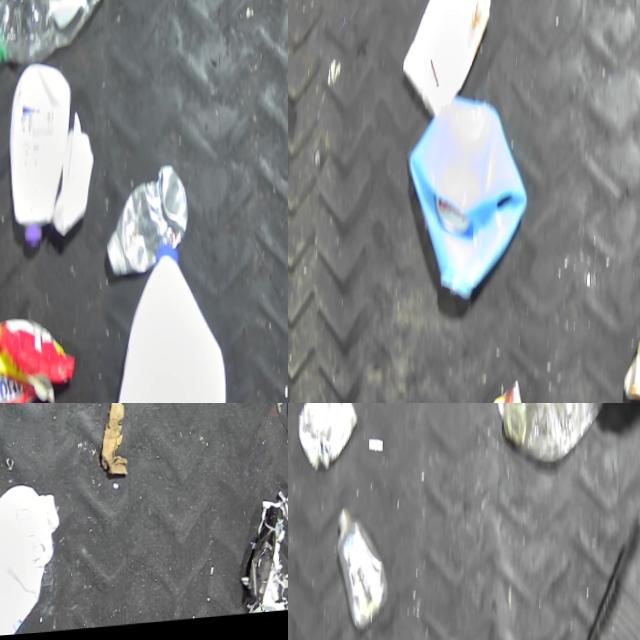can: (294, 403, 360, 473)
milk_jug: (111, 240, 242, 403), (0, 485, 64, 640)
non_white_jug: (406, 94, 533, 307)
plastic_bottle: (333, 495, 392, 640), (486, 403, 606, 474)
